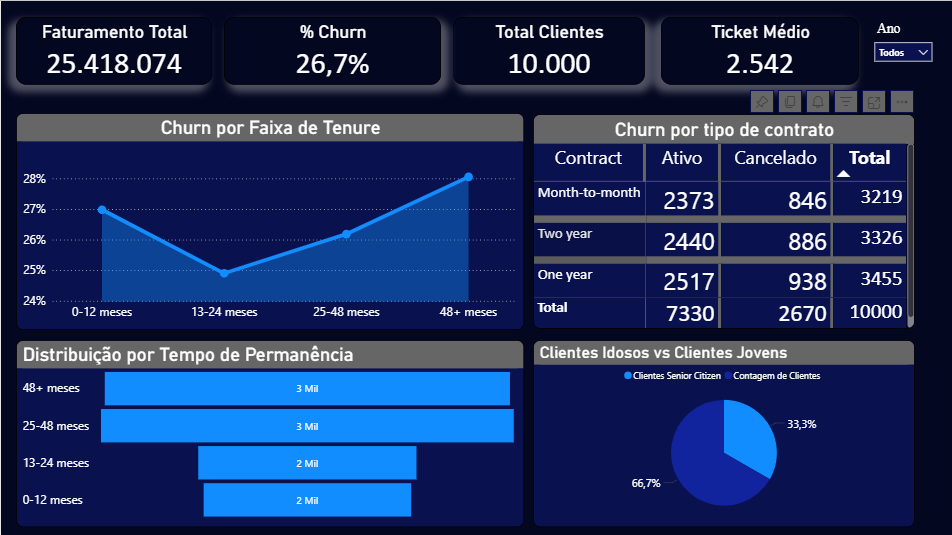

What the dashboard file says about the page in this screenshot:
{"tool":"powerbi","page":{"name":"Página 1","canvas":[1280,720],"ordinal":0},"visuals":[{"type":"card","title":"Faturamento Total","fields":{"Values":["Conjunto de dados.Faturamento Total"]},"box":[20.1,21.4,263.6,91],"z":0},{"type":"card","title":"Ticket Médio ","fields":{"Values":["Conjunto de dados.Tikcet Médio"]},"box":[888.6,21.4,266.3,91],"z":1000},{"type":"card","title":"Total Clientes","fields":{"Values":["Medidas.Qntd Clientes"]},"box":[608.9,21.4,258.3,91],"z":2000},{"type":"card","title":"% Churn","fields":{"Values":["Medidas.% Churn"]},"box":[299.8,21.4,291.7,91],"z":3000},{"type":"areaChart","title":"Churn por Faixa de Tenure","fields":{"Category":["Conjunto de dados.Faixa Tenure"],"Y":["Medidas.% Churn"]},"box":[20.1,151.2,683.9,291.7],"z":4000},{"type":"pivotTable","title":"Churn por tipo de contrato","fields":{"Values":["Medidas.Qntd Clientes"],"Rows":["Conjunto de dados.Contract"],"Columns":["Conjunto de dados.Status_churn"]},"box":[716,152.6,513.9,289.1],"z":5000},{"type":"pieChart","title":"Clientes Idosos vs Clientes Jovens","fields":{"Y":["Sum(Conjunto de dados.SeniorCitizen)","CountNonNull(Conjunto de dados.CustomerID)"]},"box":[716,456.4,513.9,251.6],"z":6000},{"type":"slicer","fields":{"Values":["Conjunto de dados.Ordem de Tenure"]},"box":[1165.7,21.4,97.7,91],"z":8000},{"type":"funnel","title":"Distribuição por Tempo de Permanência","fields":{"Category":["Conjunto de dados.Faixa Tenure"],"Y":["Medidas.Qntd Clientes"]},"box":[20.1,456.4,683.9,251.6],"z":9000}]}

Visuals, with their boxes in screenshot pixels (x1, y1, x2, y2), scaled from the page's 1280x720 canvas onto the 952x535 screenshot:
"Faturamento Total" card: 15/16/211/84
"Ticket Médio " card: 661/16/859/84
"Total Clientes" card: 453/16/645/84
"% Churn" card: 223/16/440/84
"Churn por Faixa de Tenure" areaChart: 15/112/524/329
"Churn por tipo de contrato" pivotTable: 533/113/915/328
"Clientes Idosos vs Clientes Jovens" pieChart: 533/339/915/526
slicer - Conjunto de dados.Ordem de Tenure: 867/16/940/84
"Distribuição por Tempo de Permanência" funnel: 15/339/524/526
